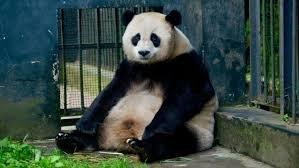bear: (56, 10, 219, 163)
